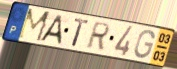4: (112, 25, 134, 59)
A: (38, 13, 64, 46)
G: (133, 29, 156, 60)
M: (16, 7, 53, 44)
R: (84, 21, 112, 51)
T: (71, 17, 91, 49)
